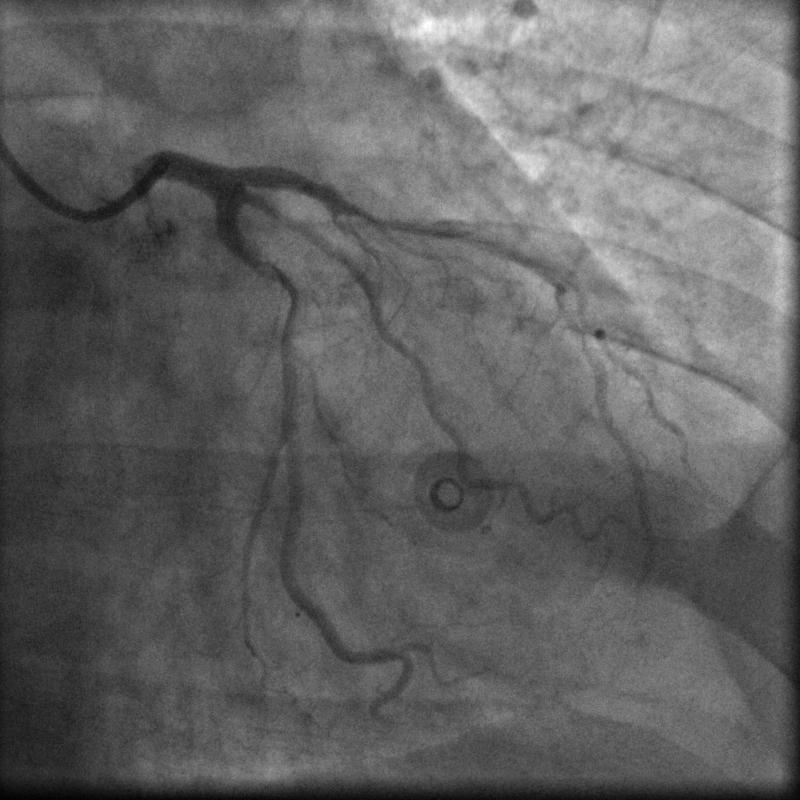Stenosis: (353, 203, 440, 244)
